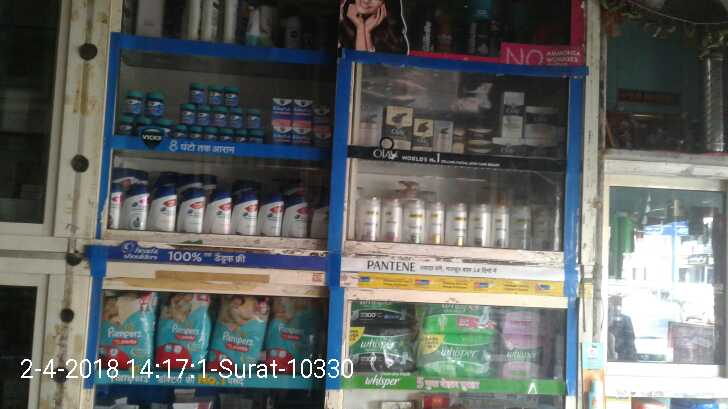vicks: (311, 100, 337, 127), (127, 85, 145, 117), (146, 90, 167, 117), (290, 98, 310, 122), (112, 117, 134, 138), (243, 108, 264, 130), (272, 97, 290, 122), (222, 84, 242, 105), (290, 123, 307, 147), (190, 82, 206, 105), (212, 108, 229, 129), (206, 84, 222, 105), (310, 130, 332, 145), (229, 108, 243, 130), (197, 108, 212, 128), (275, 123, 290, 143), (180, 107, 197, 124)
